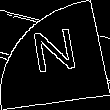N_S: (27, 26, 83, 84)
